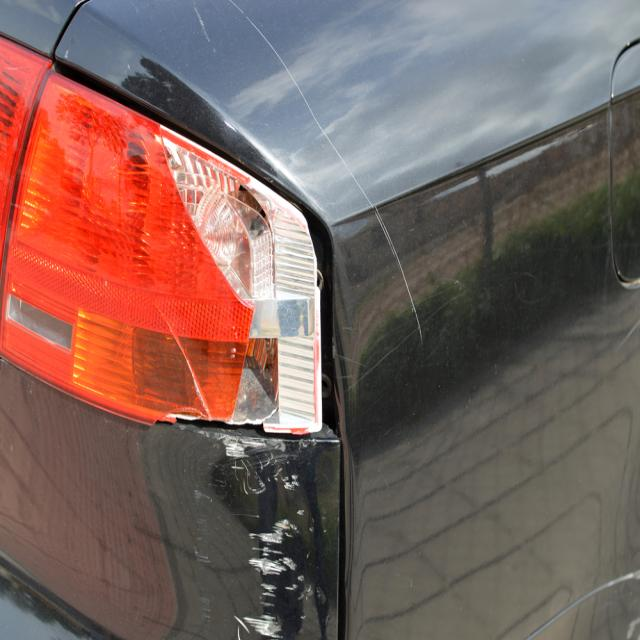Phare abime: (145, 122, 333, 451)
Rayure: (186, 0, 432, 355), (198, 417, 350, 640)
